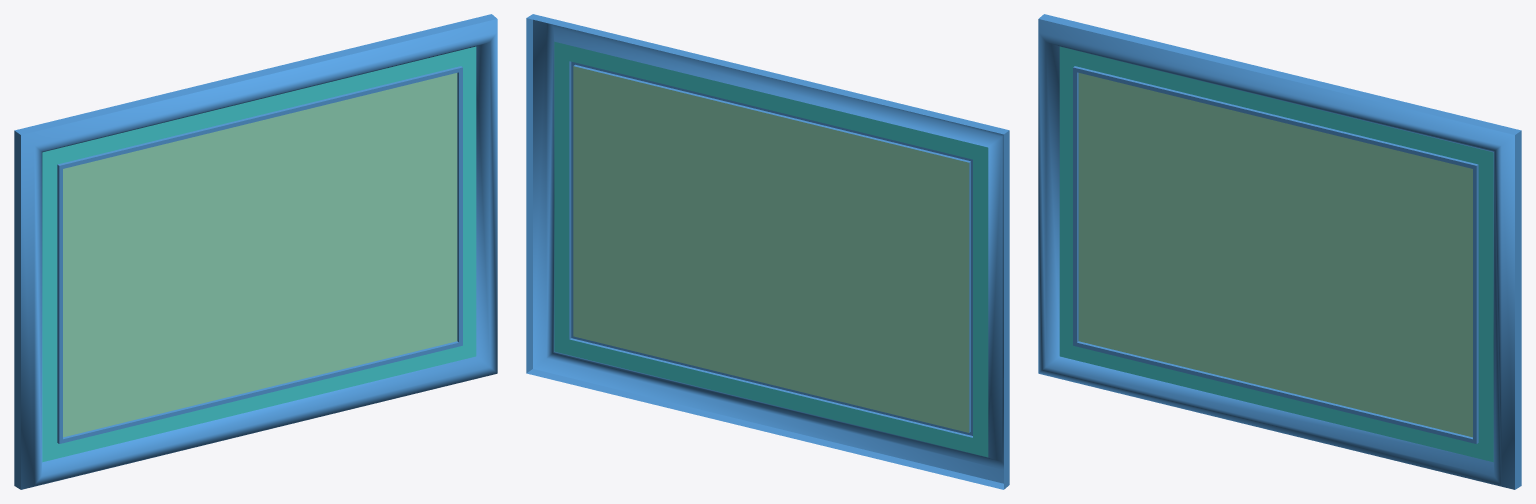
The model's file is pictureA.fbx.
3 renders of one model, left to right at view 1: azimuth 30°, elevation 25°; view 2: azimuth 150°, elevation 25°; view 3: azimuth 330°, elevation 25°, orthographic.
Parts seen in each view (by area): view 1: pictureA; view 2: pictureA; view 3: pictureA.
Part boxes in pixels (x1,y1,x2,y2): pictureA: (14, 14, 497, 489); pictureA: (526, 14, 1009, 489); pictureA: (1038, 14, 1521, 489).
Bounding box in the file's own units: 61.04 × 43.43 × 2.8.
